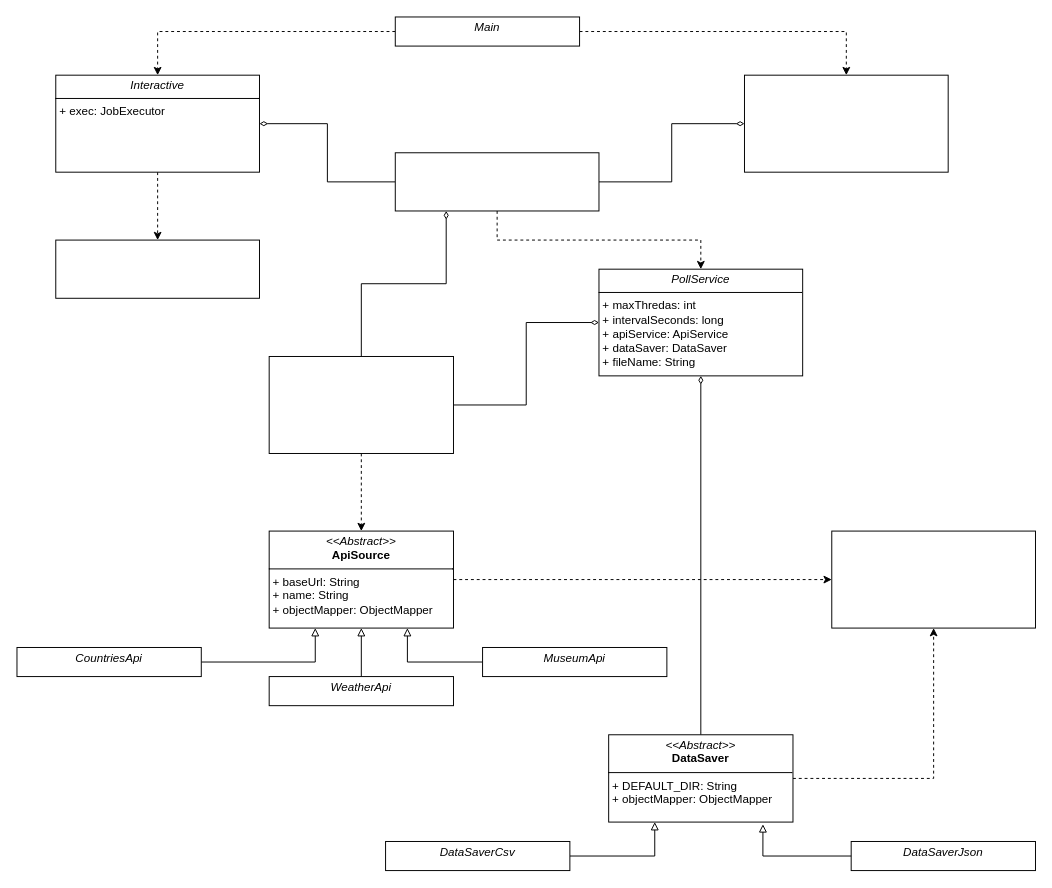
Some shapes in this 1052 by 888 pixel diagram are drawn without their labels. The centre of each missing label's shape, as x and y in pixels:
ApiRecord + id: long + source: String + data: JsonNode + timestamp: Instant: (x=933, y=579)
ApiService + httpClient: HttpClient + DEFAULT_TIMEOUT: Duration: (x=360, y=404)
Auto + DEFAULT_FILE_NAME: String + exec: JobExecutor: (x=846, y=123)
JobExecutor + apiService: ApiService: (x=496, y=181)
Menu + scanner: Scanner: (x=157, y=268)
